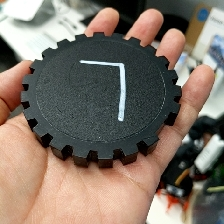gear: (19, 30, 183, 170)
missing: (140, 100, 182, 156)
